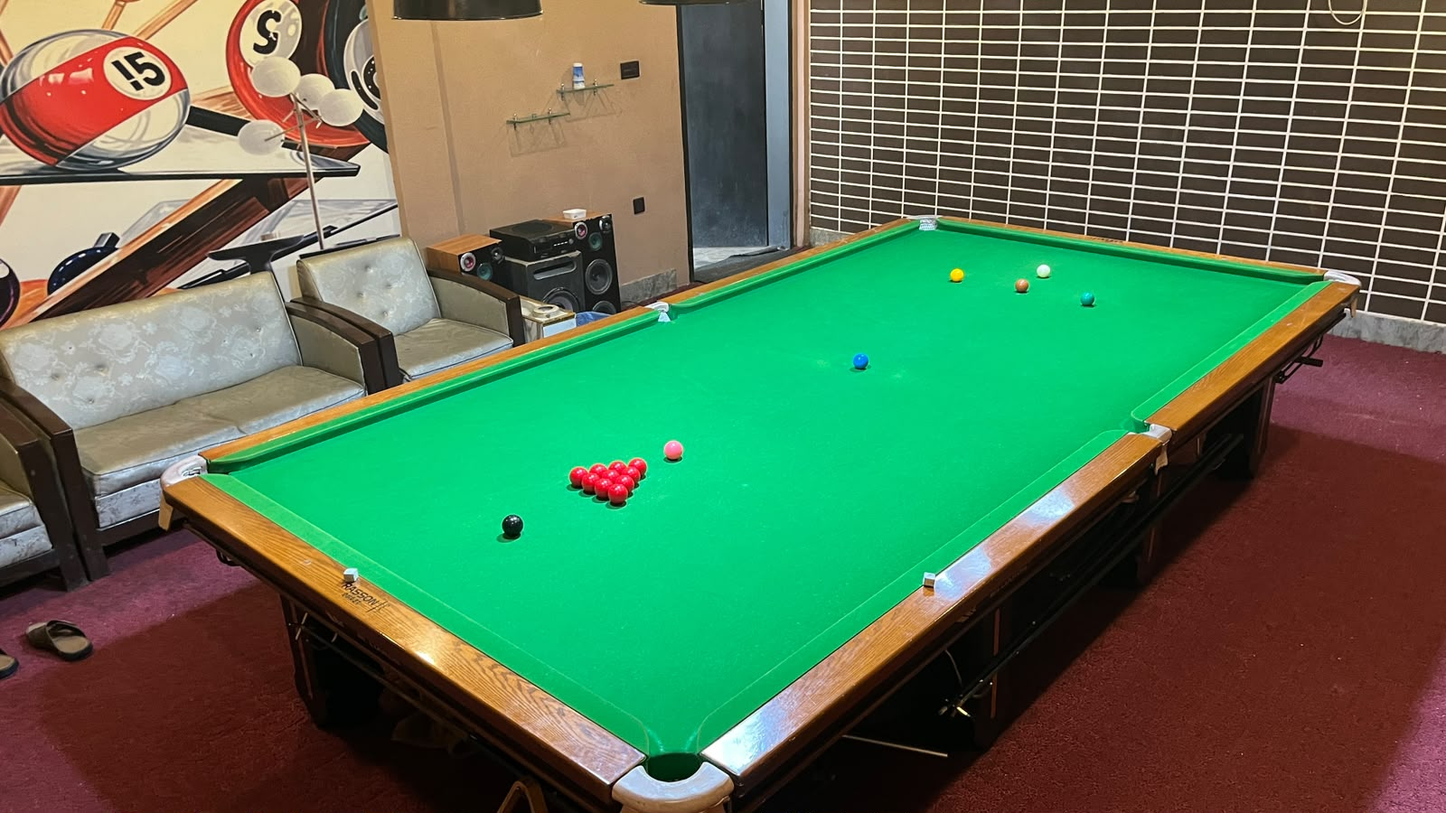Snooker: (565, 455, 658, 526)
